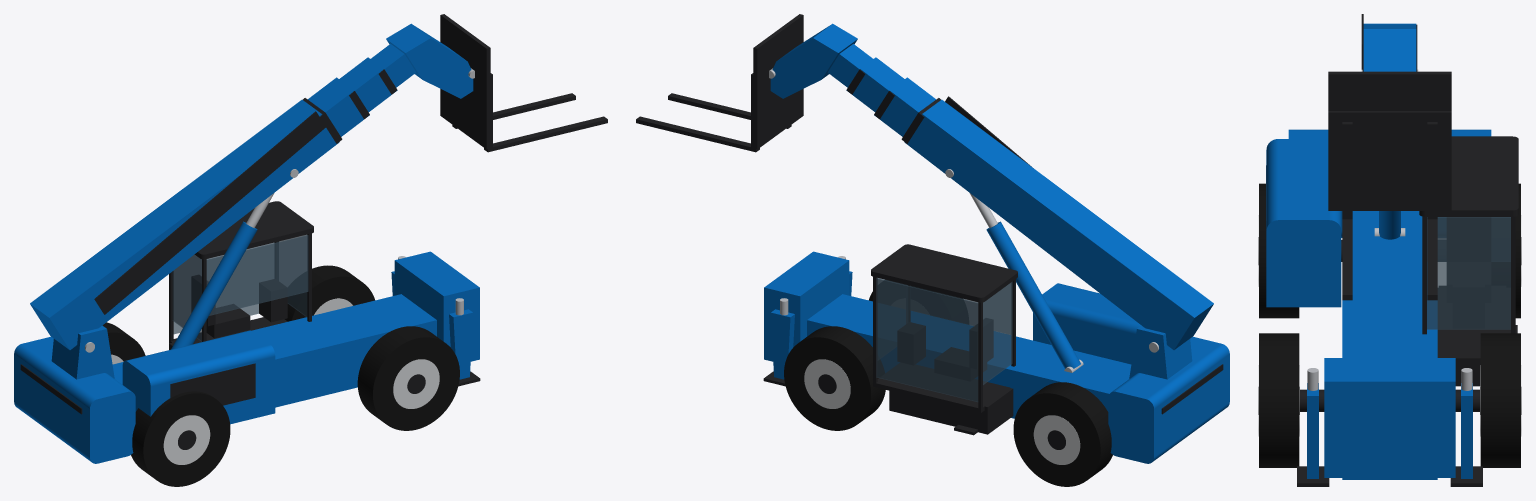
Rendered from telehandler-10k-raised-30.glb.
3 views of the same model, side by side, from view 1: azimuth 30°, elevation 25°; view 2: azimuth 150°, elevation 25°; view 3: azimuth 270°, elevation 25° (orthographic). The views are drawn at different scales.
Visible parts, largest first — view 1: frame, rear_axle, rear_tyre_1, cab_glass_front, rear_rim_1, stabilizer_cyl_1; view 2: frame, rear_axle, cab_glass_front, rear_tyre_1, rear_rim_1, stabilizer_cyl_1; view 3: frame, rear_axle, rear_tyre_1, cab_glass_front, stabilizer_cyl_1, rear_rim_1.
Boxes of the visible parts, x1=… form: frame: x1=14, y1=23, x2=479, y2=463; rear_axle: x1=20, y1=14, x2=607, y2=449; rear_tyre_1: x1=102, y1=265, x2=459, y2=486; cab_glass_front: x1=172, y1=234, x2=308, y2=341; rear_rim_1: x1=111, y1=298, x2=439, y2=464; stabilizer_cyl_1: x1=85, y1=68, x2=474, y2=352; frame: x1=764, y1=23, x2=1229, y2=463; rear_axle: x1=636, y1=14, x2=1223, y2=449; cab_glass_front: x1=876, y1=278, x2=1012, y2=402; rear_tyre_1: x1=784, y1=280, x2=1112, y2=486; rear_rim_1: x1=804, y1=359, x2=1080, y2=464; stabilizer_cyl_1: x1=769, y1=68, x2=1158, y2=372; frame: x1=1266, y1=23, x2=1491, y2=479; rear_axle: x1=1258, y1=14, x2=1521, y2=486; rear_tyre_1: x1=1259, y1=183, x2=1520, y2=467; cab_glass_front: x1=1427, y1=217, x2=1510, y2=329; stabilizer_cyl_1: x1=1307, y1=69, x2=1472, y2=390; rear_rim_1: x1=1258, y1=215, x2=1521, y2=436.
Size of the model in its own units: 8.39 by 5.1 by 2.6.
